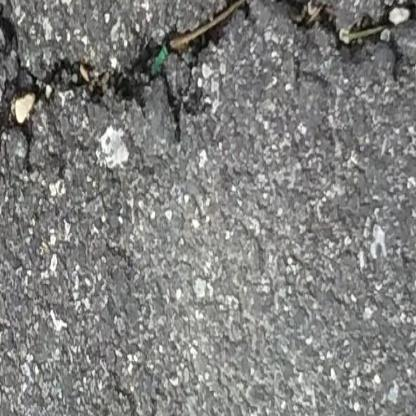Cracks: (0, 0, 416, 179)
